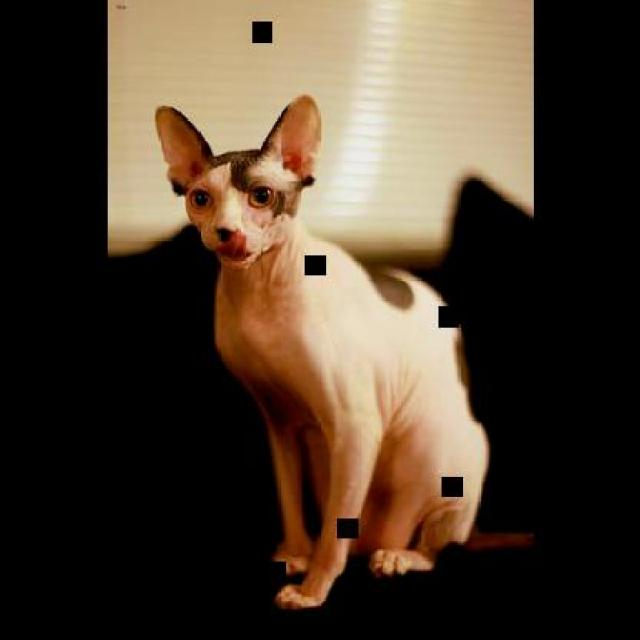unauthorized: (152, 92, 492, 611)
